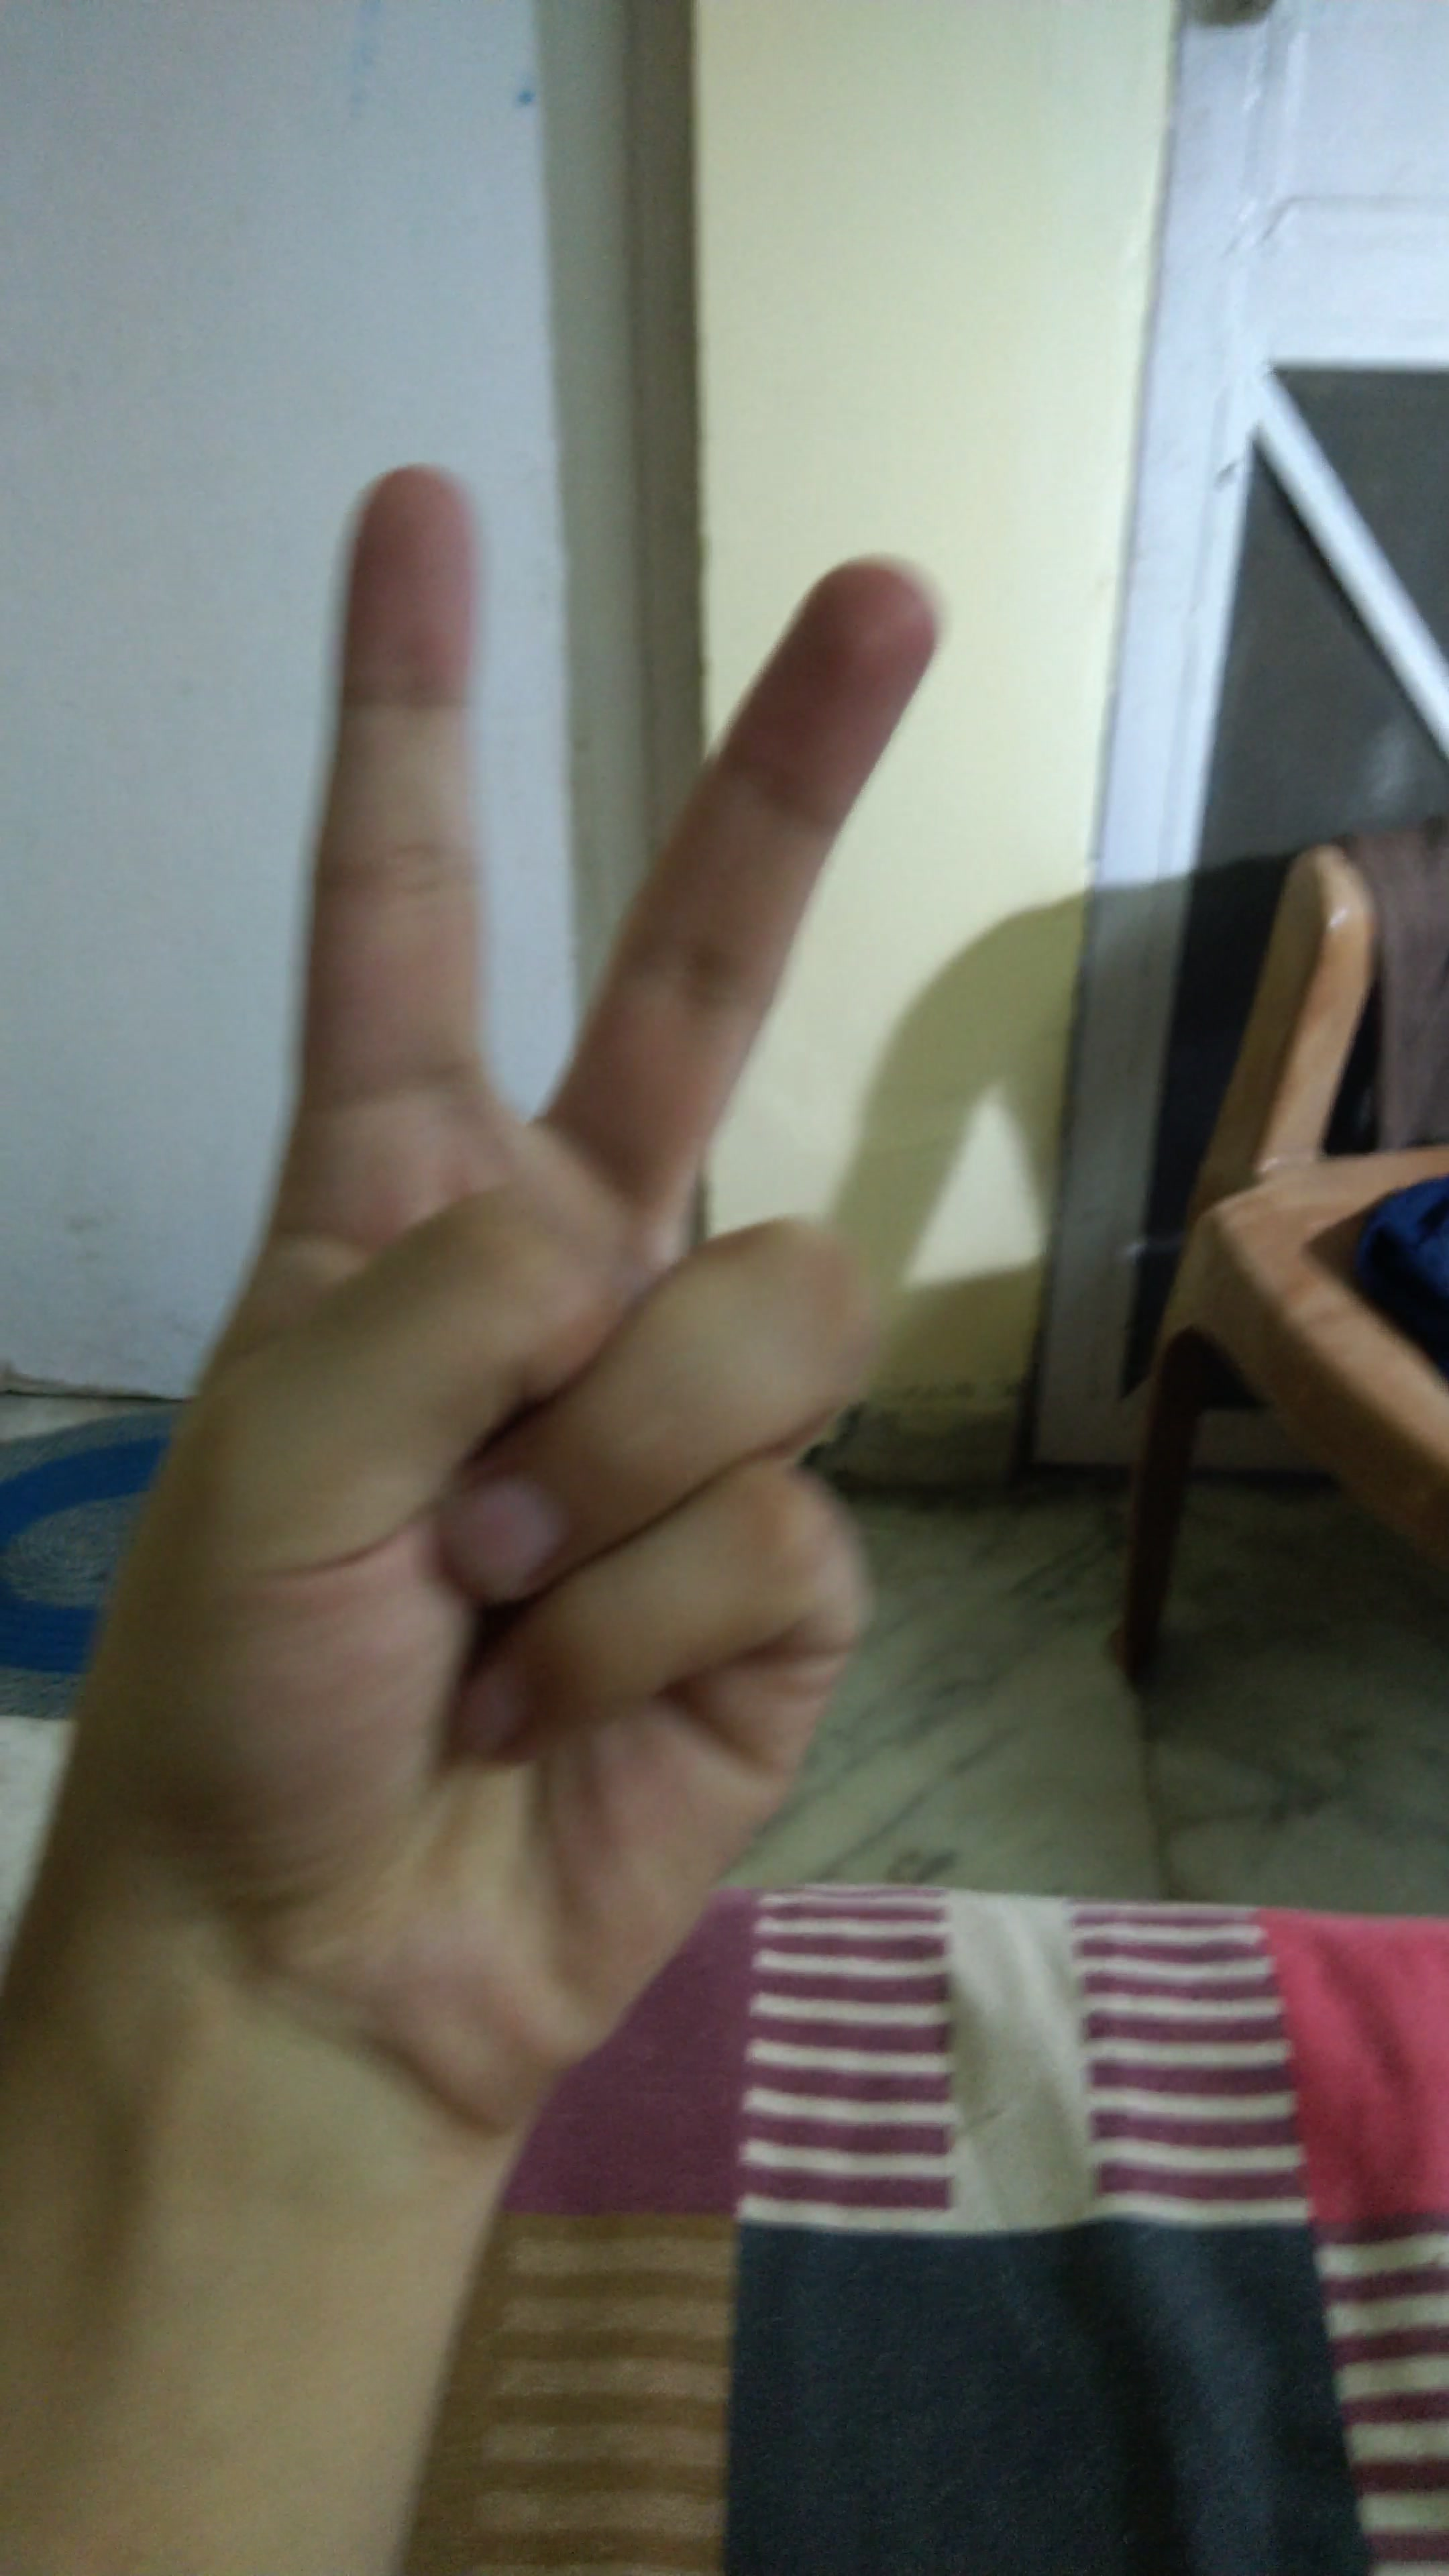hand: (51, 379, 1044, 2132)
